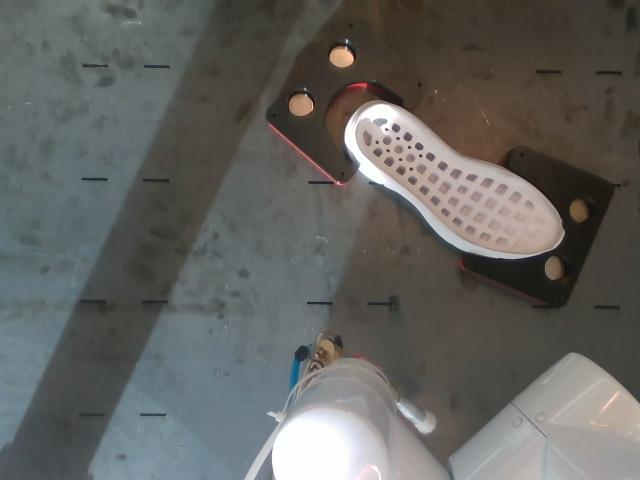shoes: (355, 104, 563, 255)
